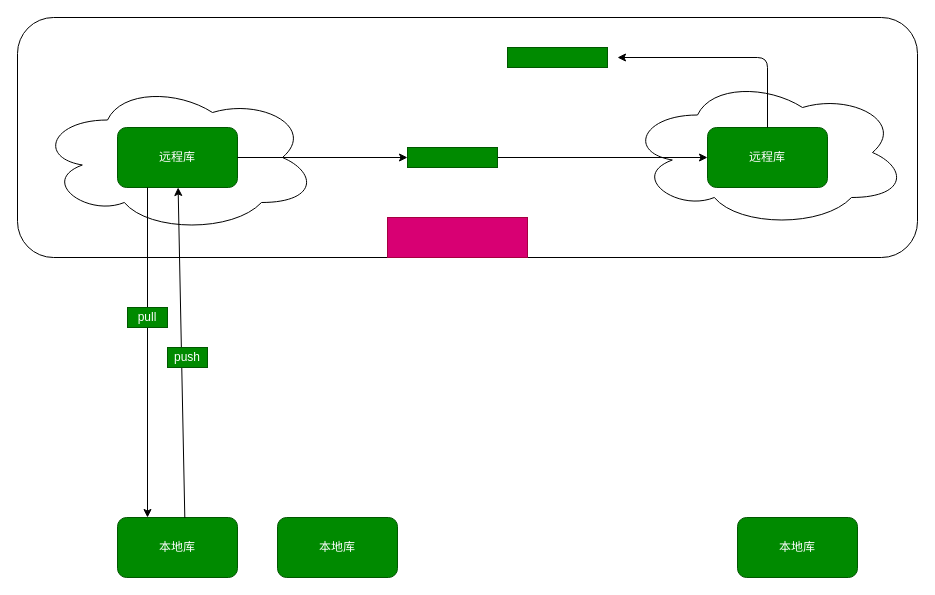
Some shapes in this 935 by 595 pixel diagram are drawn without their labels. The shapes that lost their labels are listed below. From the top down, each one's centre as x and y in pixels, then its label:
(x=557, y=57): pull request
(x=452, y=157): fork
(x=457, y=237): GitHub
